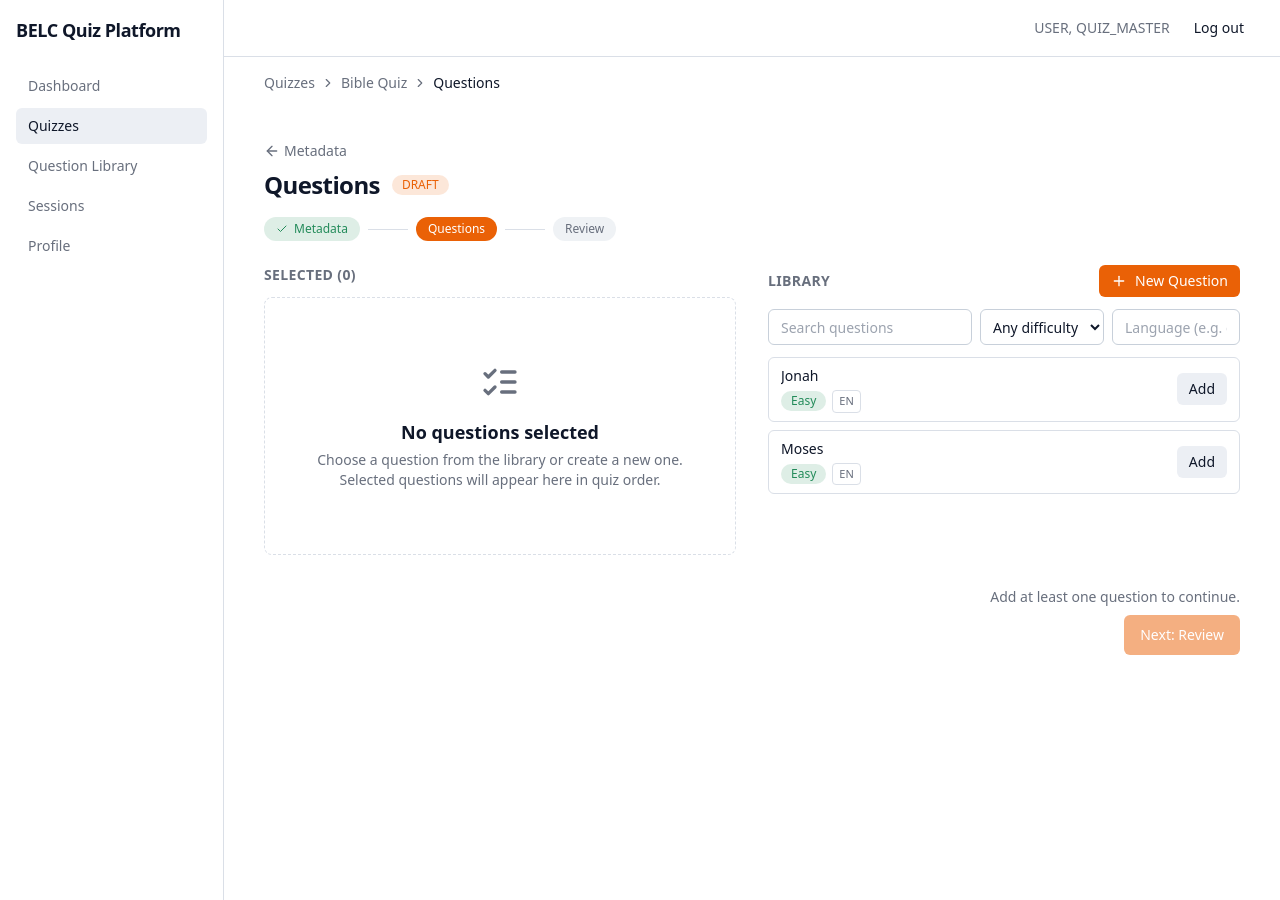
Test: QuizQuestionsPage › filters the library by search text
This screenshot has width=1280, height=900.
Expected: the text "Jonah" is shown, left=781, top=366, right=818, bottom=385
Type "moses" into the search field labelled "Search questions".
click(870, 327); type("moses")  # box left=768, top=309, right=972, bottom=345
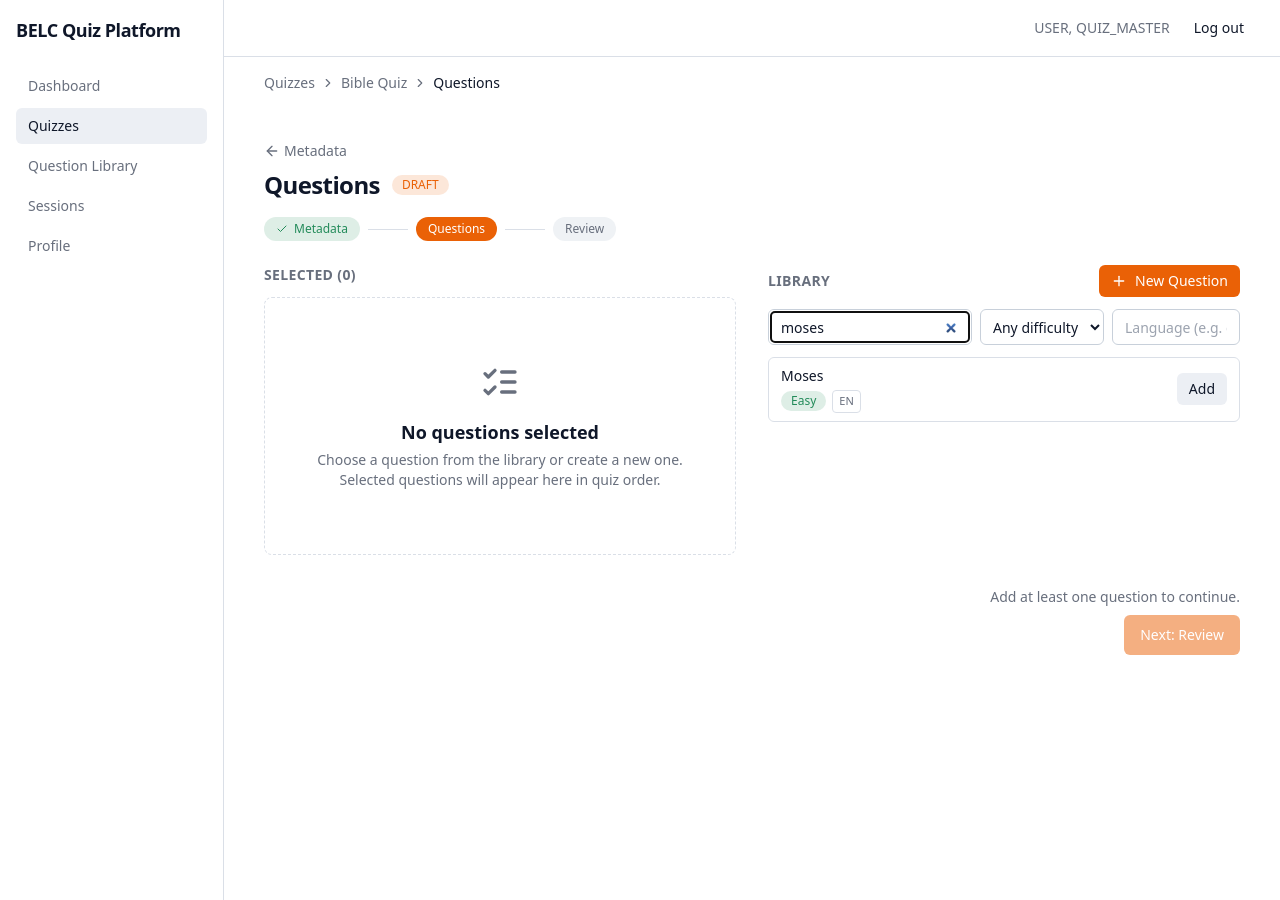
Expected: the text "Moses" is shown, left=781, top=366, right=824, bottom=385
Now the text "Jonah" is gone
